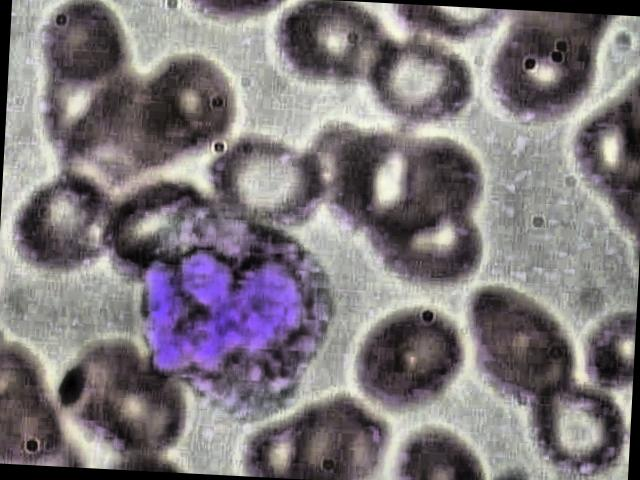RBC: (48, 334, 195, 464), (452, 280, 590, 416), (345, 297, 476, 413), (1, 168, 128, 286), (204, 130, 330, 238), (355, 33, 478, 137), (481, 30, 604, 134), (509, 381, 631, 480), (23, 0, 133, 91)
WBC: (133, 211, 348, 424)
